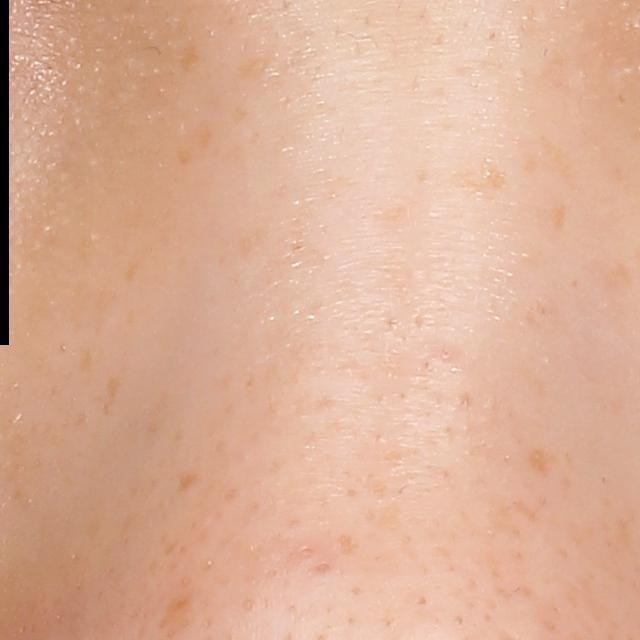melasma: (441, 153, 512, 200), (541, 128, 579, 186), (527, 440, 555, 484), (232, 55, 273, 82), (177, 38, 201, 79), (191, 119, 218, 153), (103, 374, 128, 409), (174, 471, 205, 499), (75, 346, 97, 378), (174, 145, 199, 169), (550, 196, 567, 231), (125, 260, 141, 286)
